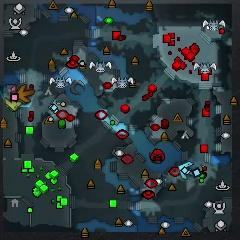x2: (3, 90, 23, 111)
x3: (177, 161, 196, 182)
x5: (17, 82, 36, 103)
